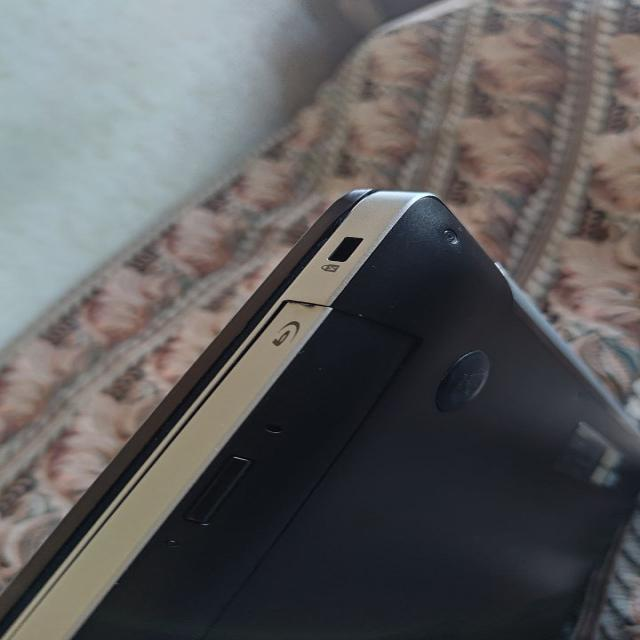lock: (0, 296, 477, 640)
